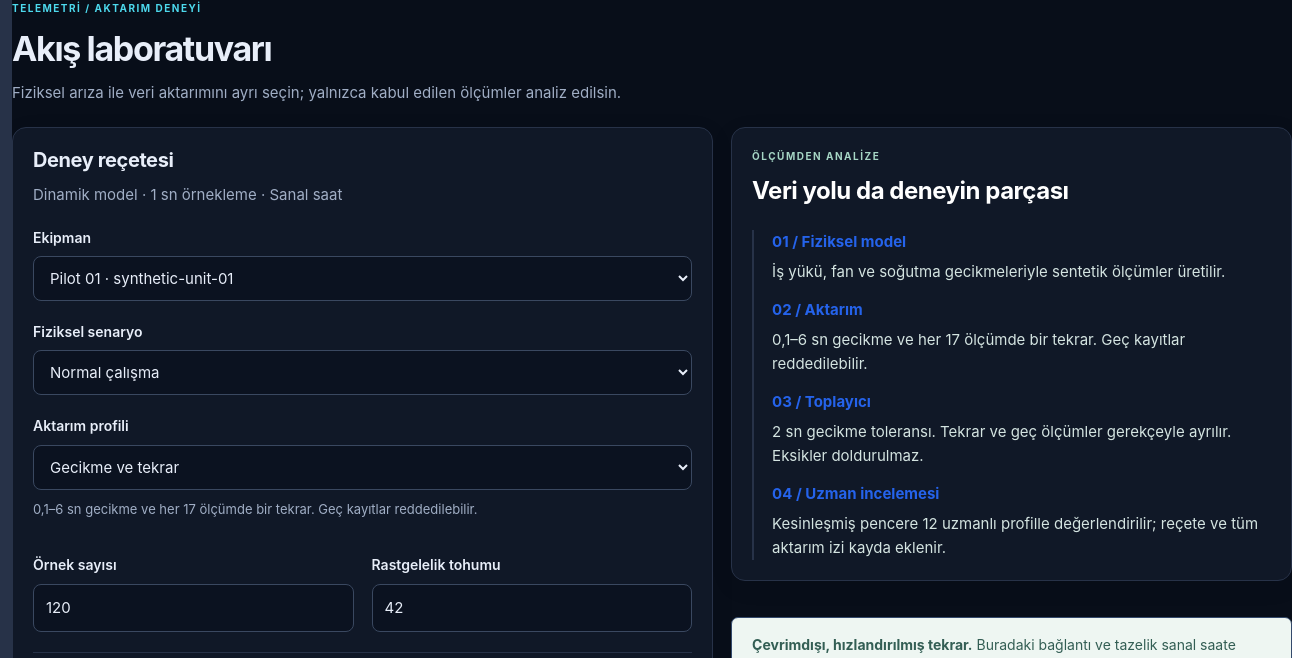
Scenario: stream workspace › rejects unsafe seeds before sending the experiment
Expected: the dropdown labelled "Ekipman" is shown, [33,256,692,301]
Replace the text in the number field labelled "Rastgelelik tohumu" with "999999999999999999" at (532, 608), box [372,584,692,632]
(page scrolled)
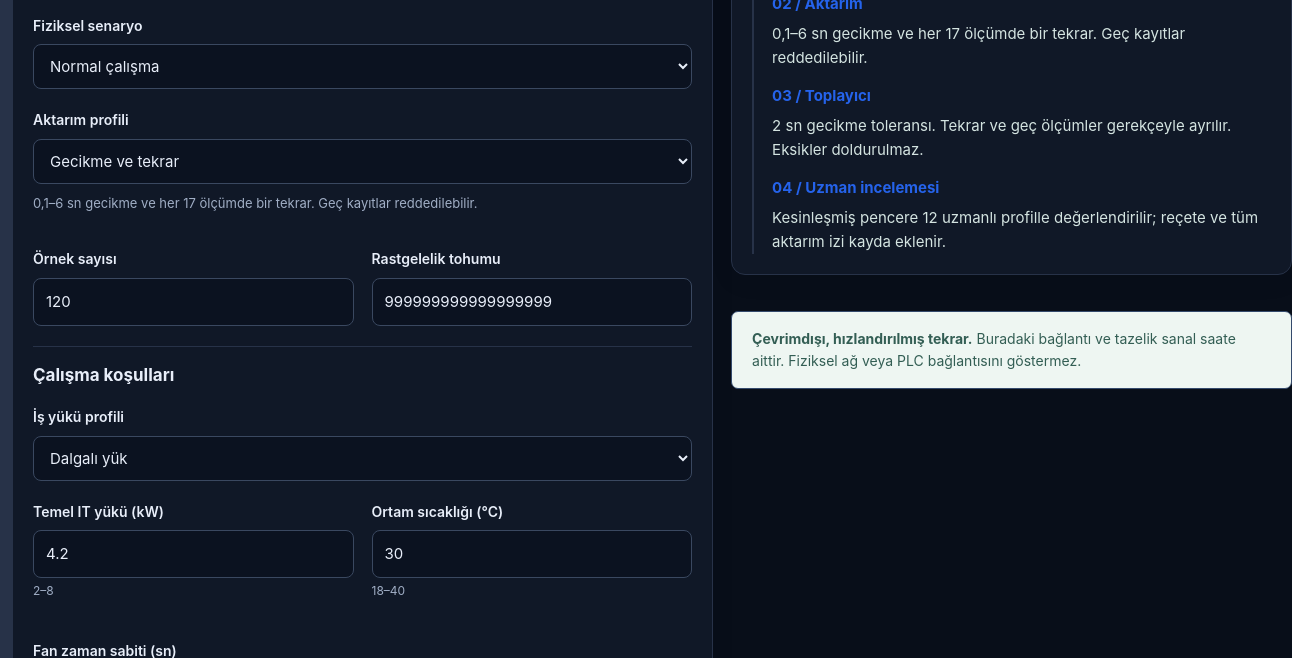
Submit the form named "Aktarım deneyini çalıştır ve kaydet"
(page scrolled)
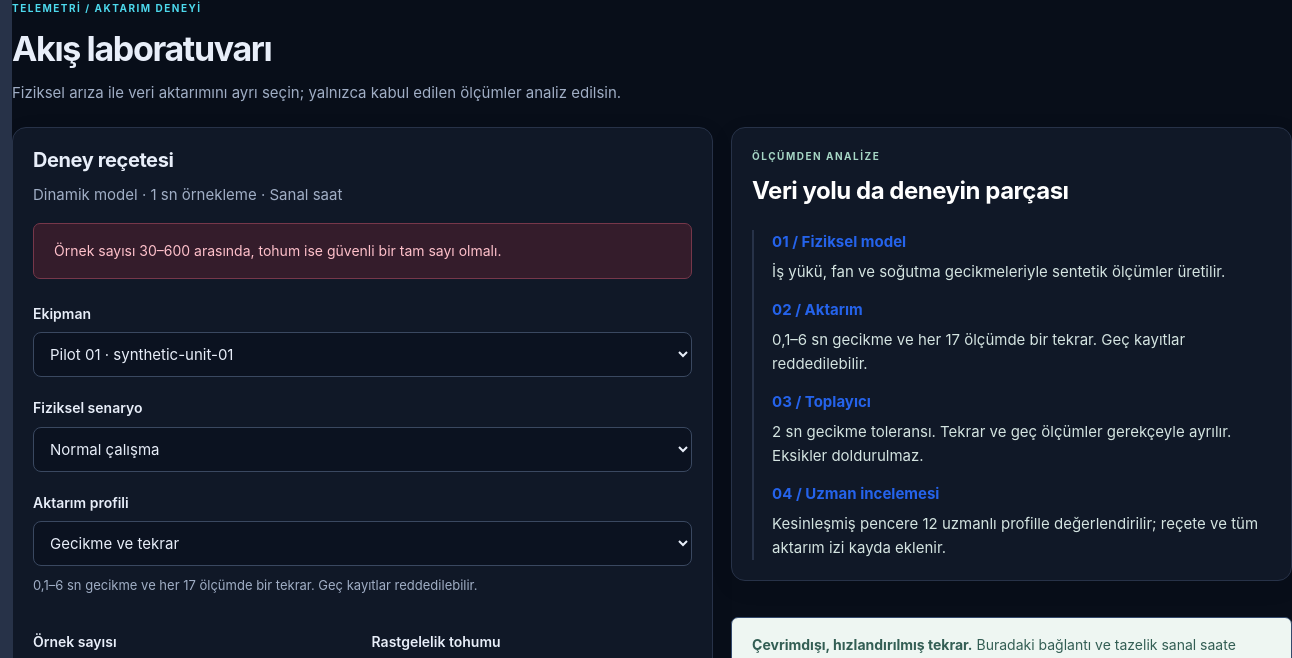
Expected: the message shows "güvenli bir tam sayı", [54,242,501,258]
